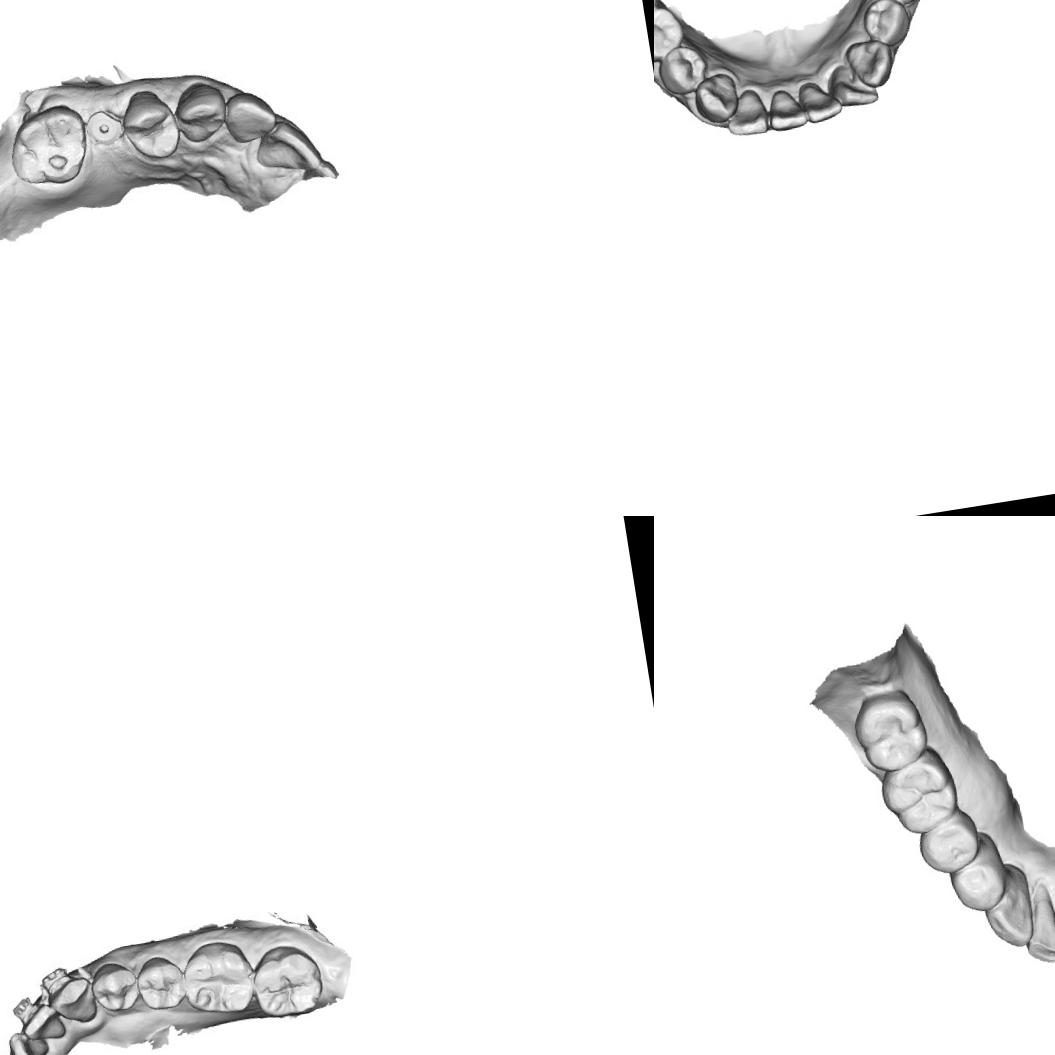canine: (977, 871, 1039, 953), (172, 78, 232, 144), (50, 968, 101, 1030), (844, 36, 898, 92), (690, 71, 742, 126)
implant: (84, 102, 132, 152)
incisor: (252, 112, 322, 177), (218, 85, 280, 144), (1017, 895, 1055, 969), (826, 60, 880, 110), (722, 86, 771, 139), (795, 76, 844, 126), (21, 1002, 71, 1048), (764, 84, 808, 132), (10, 1029, 56, 1055)
molar: (874, 744, 964, 840), (3, 100, 92, 194), (847, 684, 933, 779), (182, 940, 255, 1027), (248, 944, 328, 1022)
premolar: (944, 838, 1014, 919), (912, 808, 986, 880), (118, 82, 182, 163), (654, 42, 712, 98), (136, 949, 189, 1009), (859, 0, 914, 50), (92, 960, 142, 1012), (654, 3, 688, 66)
